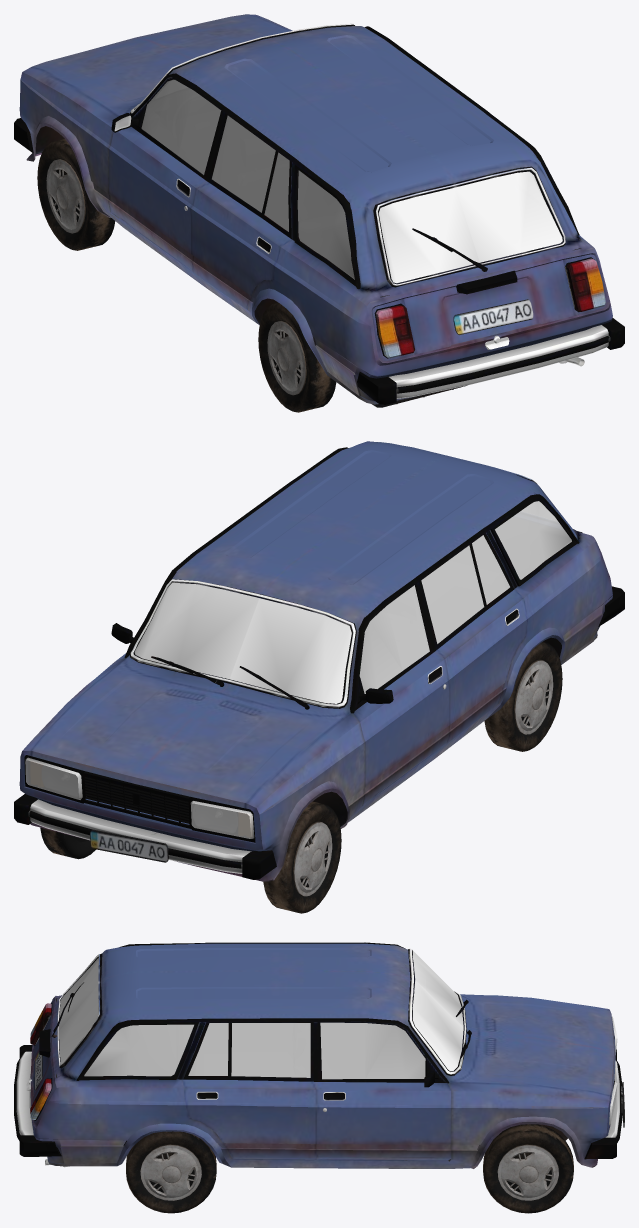
File: c_vaz.glb
3 renders of one model, top to bottom at view 1: azimuth 30°, elevation 25°; view 2: azimuth 150°, elevation 25°; view 3: azimuth 270°, elevation 25°, orthographic. The views are drawn at different scales.
Visible parts, largest first — view 1: body|Body, body|glass, body|Wheel, body|material; view 2: body|Body, body|glass, body|Wheel, body|material; view 3: body|Body, body|glass, body|Wheel, body|material.
Boxes of the visible parts, bbox=[...] form: body|Body: bbox=[14, 14, 624, 407]; body|glass: bbox=[141, 79, 562, 283]; body|Wheel: bbox=[37, 139, 336, 412]; body|material: bbox=[46, 159, 306, 395]; body|Body: bbox=[14, 441, 624, 881]; body|glass: bbox=[25, 501, 571, 838]; body|Wheel: bbox=[40, 642, 562, 913]; body|material: bbox=[293, 660, 553, 896]; body|Body: bbox=[14, 942, 624, 1168]; body|glass: bbox=[59, 951, 617, 1125]; body|Wheel: bbox=[126, 1124, 573, 1213]; body|material: bbox=[140, 1144, 558, 1200].
Bounding box in the file's own units: 1.75 × 1.44 × 4.1.
4 materials, 3 textured.
